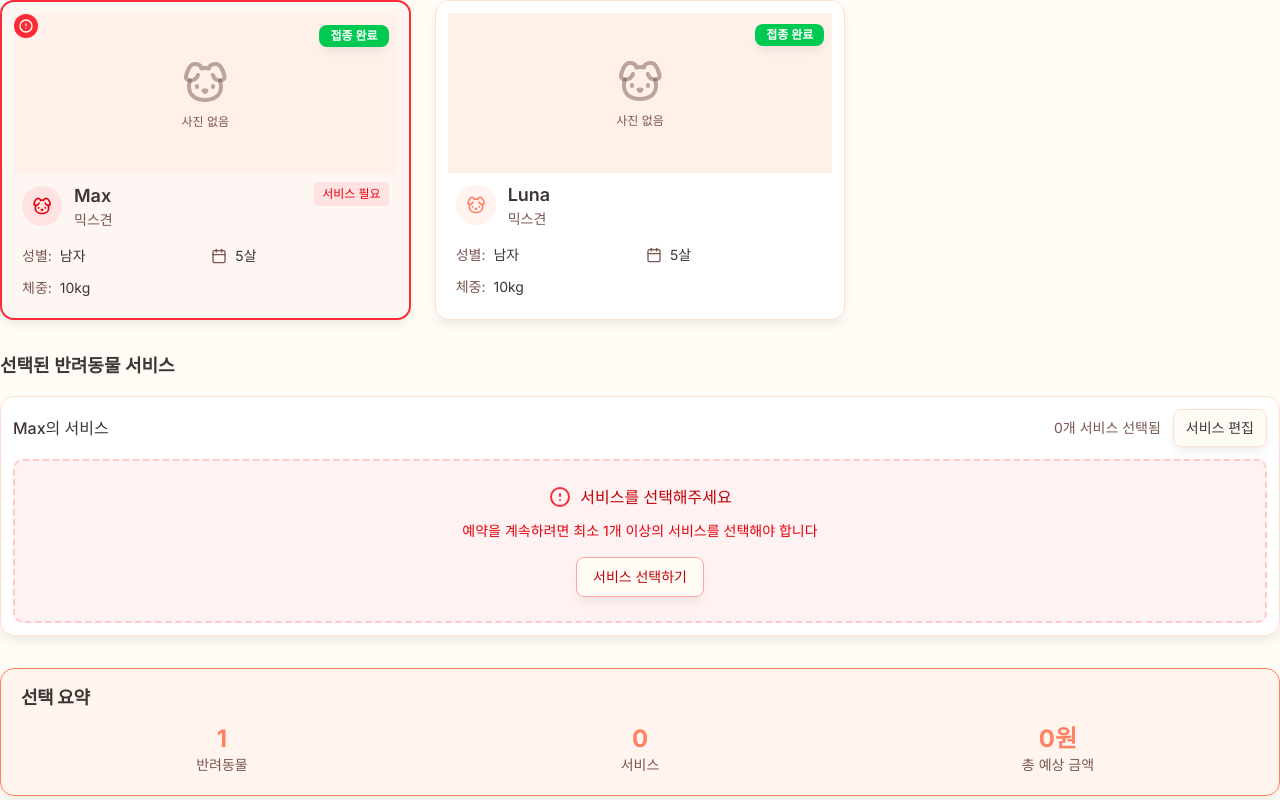
Test: PetSelectionStep › should show error when service fetch fails
What coordinates should you click on to do the following:
click the button "서비스 편집"
I would click on:
 (1220, 428)
Its box is left=1173, top=409, right=1267, bottom=447.
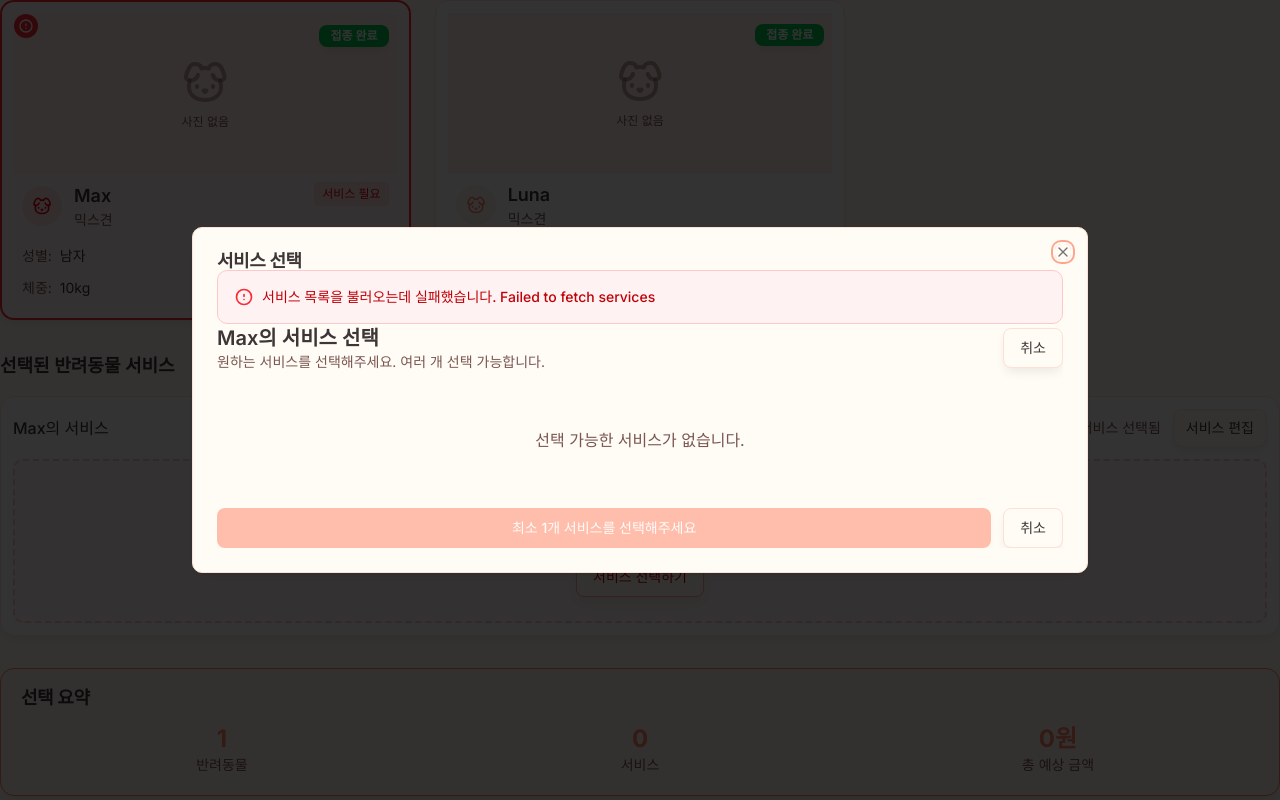
Check: the text "서비스 목록을 불러오는데 실패했습니다. Failed to fetch services" is shown, box left=262, top=287, right=655, bottom=307
